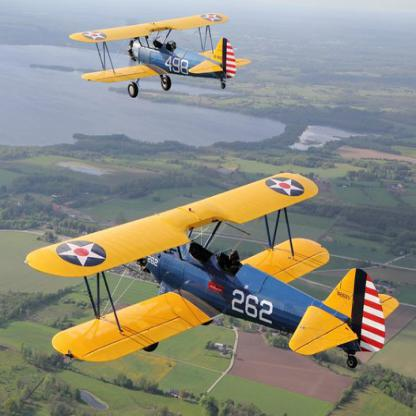CIV_Plane: (24, 169, 400, 394), (63, 11, 252, 102)
